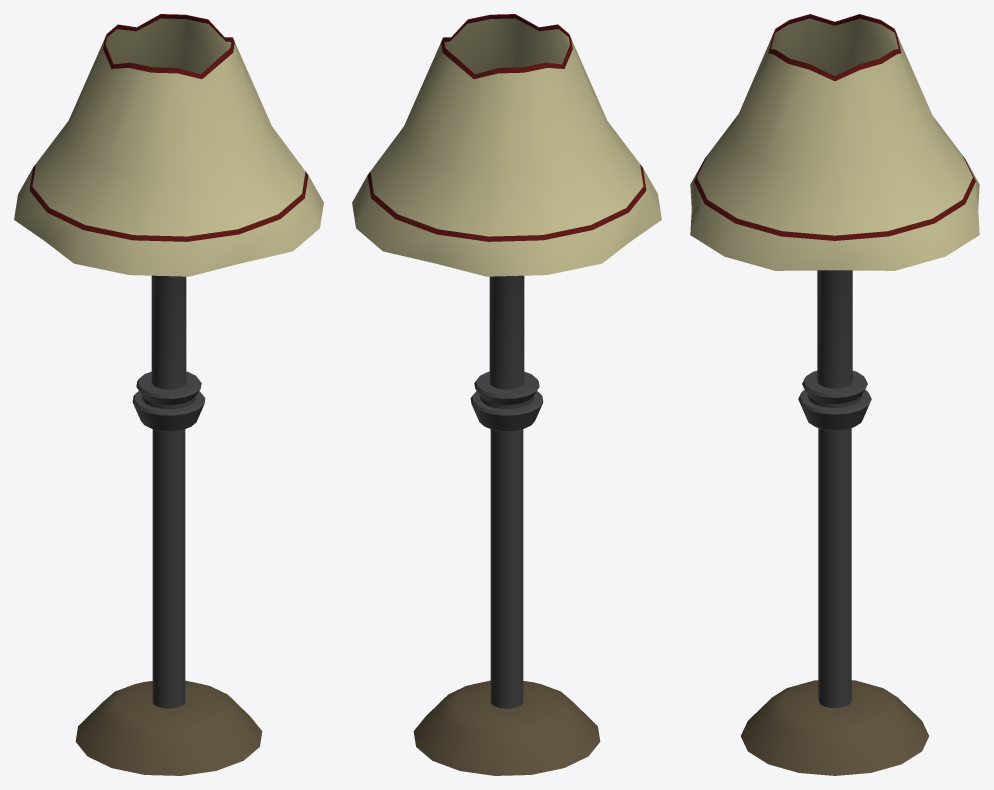
File: Abajur.fbx
The picture shows the model from 3 angles, left to right: view 1: azimuth 30°, elevation 25°; view 2: azimuth 150°, elevation 25°; view 3: azimuth 270°, elevation 25°; orthographic projection.
Visible parts, largest first — view 1: Abajur; view 2: Abajur; view 3: Abajur.
Part boxes in pixels (box(x1,y1,x2,y2)): Abajur: box(14, 14, 323, 775); Abajur: box(352, 14, 661, 775); Abajur: box(690, 14, 979, 775).
Bounding box in the file's own units: 307 × 815 × 307.
